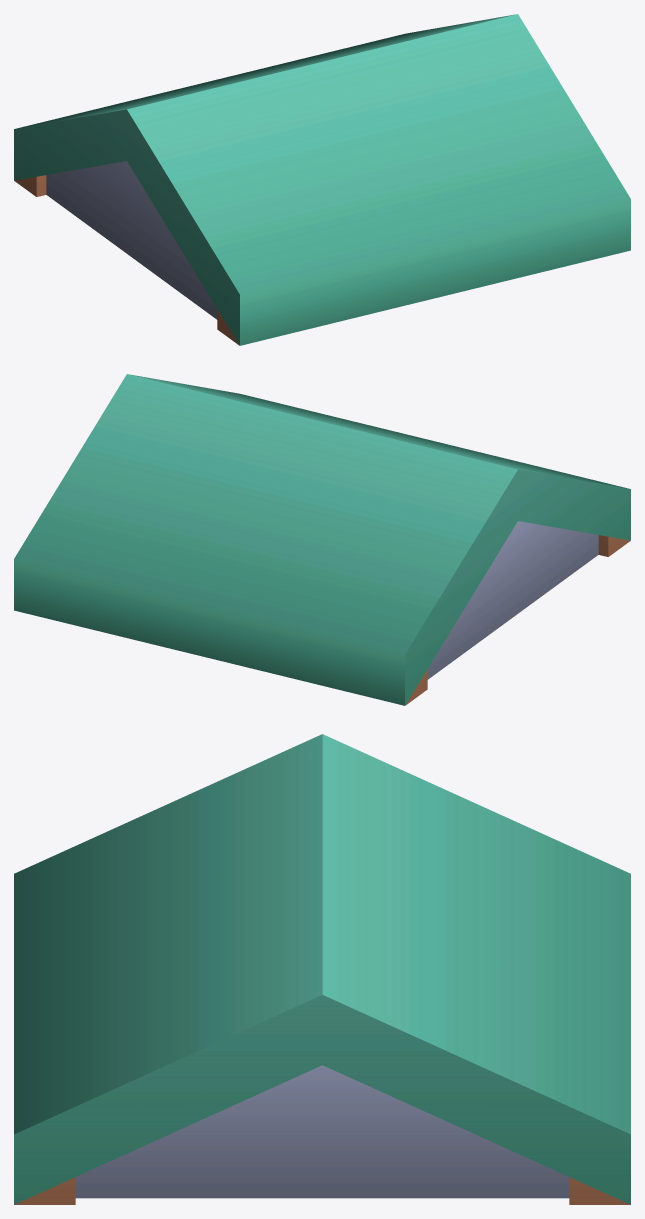
The model's file is roof-gable-top.glb.
3 views of the same model, one above another, from view 1: azimuth 30°, elevation 25°; view 2: azimuth 150°, elevation 25°; view 3: azimuth 270°, elevation 25° (orthographic). The views are drawn at different scales.
Visible parts, largest first — view 1: roof-gable-top; view 2: roof-gable-top; view 3: roof-gable-top.
Part boxes in pixels (x1,y1,x2,y2): roof-gable-top: (14, 14, 630, 345); roof-gable-top: (14, 374, 630, 705); roof-gable-top: (14, 734, 630, 1204).
Bounding box in the file's own units: 1 × 0.3759 × 1.
1 material, 1 textured.
